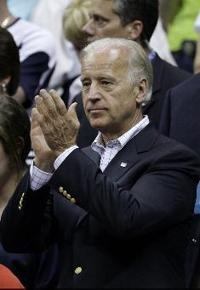person without safety: (25, 37, 200, 290)
